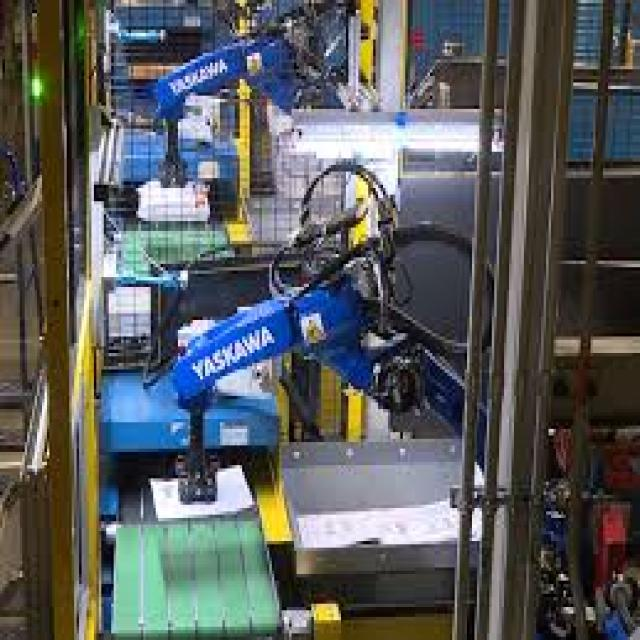Robotic-arm: (164, 263, 454, 433), (138, 20, 330, 130)
